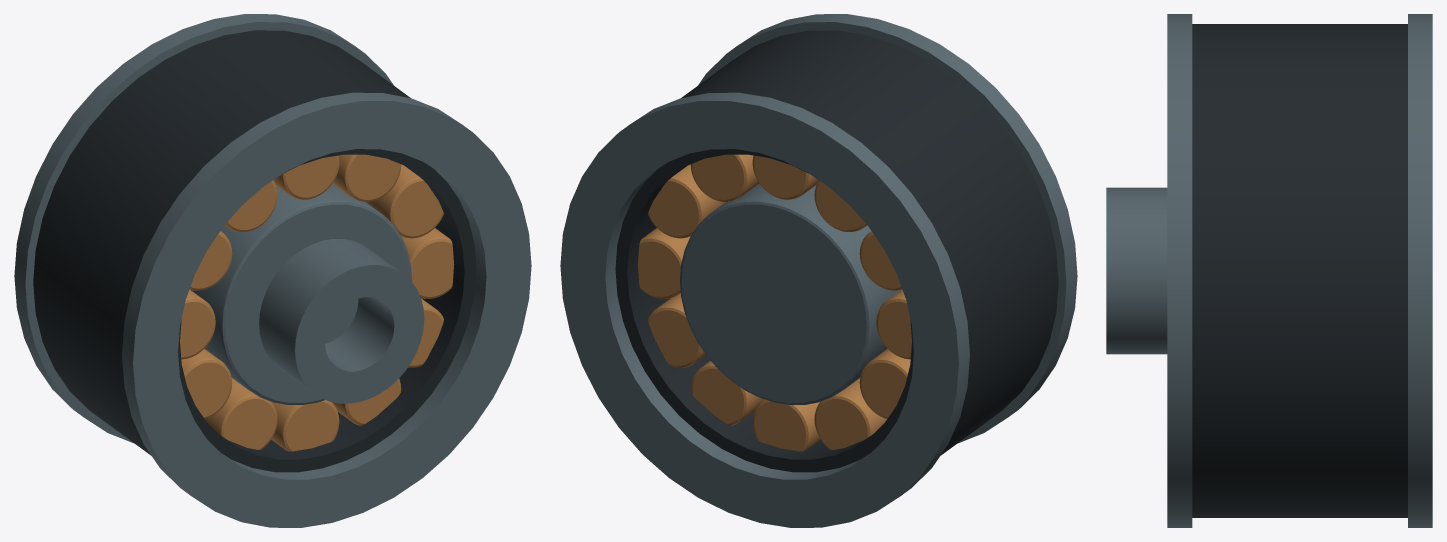
Rendered from flight_actuator.glb.
3 views of the same model, side by side, from view 1: azimuth 30°, elevation 25°; view 2: azimuth 150°, elevation 25°; view 3: azimuth 270°, elevation 25° (orthographic). The views are drawn at different scales.
Visible parts, largest first — view 1: ActuatorRim, ActuatorHousing, ShaftCoupling, ActuatorRotor, ActuatorRim.001, CopperWinding.003, CopperWinding.002, CopperWinding.005, CopperWinding.001, CopperWinding.004, CopperWinding.006, CopperWinding; view 2: ActuatorRim.001, ActuatorHousing, ActuatorRotor, ActuatorRim, CopperWinding.005, CopperWinding.004, CopperWinding.003, CopperWinding.002, CopperWinding.001, CopperWinding.006, CopperWinding; view 3: ActuatorHousing, ActuatorRim, ActuatorRim.001, ShaftCoupling.
Boxes of the visible parts, x1,y1,x2,y2 form: ActuatorRim: (122,92,531,527); ActuatorHousing: (33,30,476,472); ShaftCoupling: (259,239,424,403); ActuatorRotor: (191,183,411,404); ActuatorRim.001: (14,14,393,443); CopperWinding.003: (180,228,454,359); CopperWinding.002: (189,164,443,290); CopperWinding.005: (205,378,401,450); CopperWinding.001: (225,154,401,231); CopperWinding.004: (181,298,443,418); CopperWinding.006: (271,400,339,451); CopperWinding: (273,155,339,199); ActuatorRim.001: (560,92,969,527); ActuatorHousing: (615,30,1058,472); ActuatorRotor: (680,183,900,404); ActuatorRim: (698,14,1077,443); CopperWinding.005: (690,361,886,450); CopperWinding.004: (648,293,910,418); CopperWinding.003: (637,228,911,359); CopperWinding.002: (648,164,902,290); CopperWinding.001: (690,154,866,231); CopperWinding.006: (752,399,820,451); CopperWinding: (752,155,818,199); ActuatorHousing: (1192,24,1407,517); ActuatorRim: (1167,14,1192,527); ActuatorRim.001: (1408,14,1432,527); ShaftCoupling: (1106,187,1167,354).
Bounding box in the file's own units: 0.77 × 0.77 × 0.4885.
